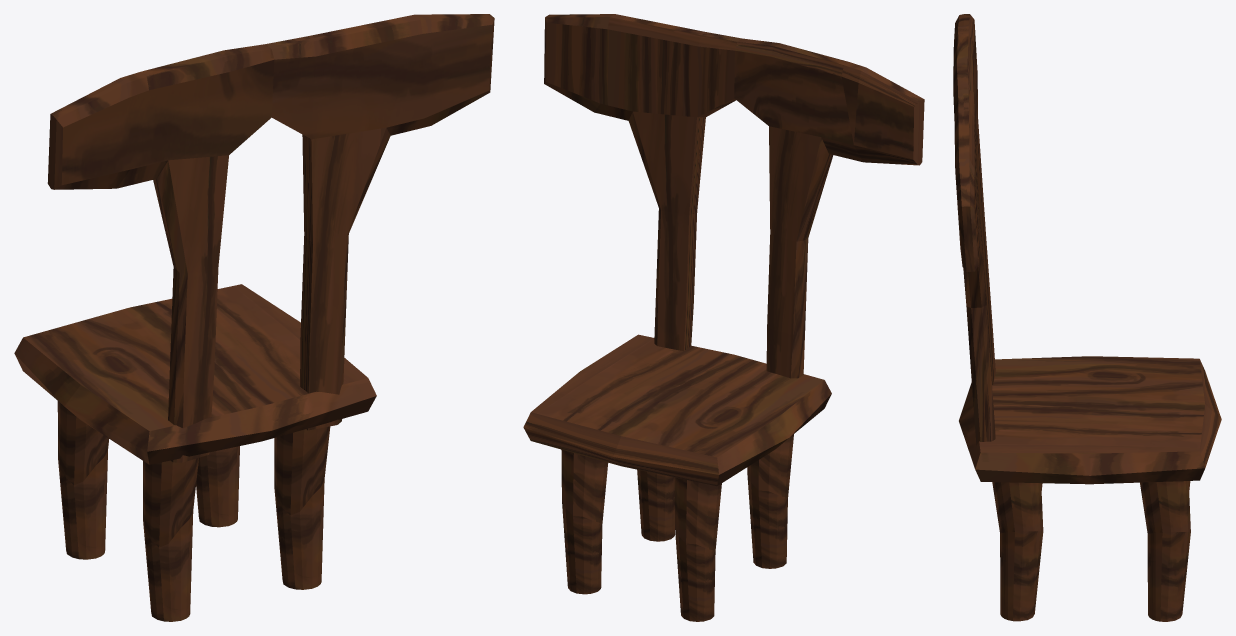
File: wood chair.fbx
3 views of the same model, side by side, from view 1: azimuth 30°, elevation 25°; view 2: azimuth 150°, elevation 25°; view 3: azimuth 270°, elevation 25° (orthographic). The views are drawn at different scales.
Visible parts, largest first — view 1: Cube.002, Seat, Feet.002, Feet.003, Feet.001, Feet; view 2: Cube.002, Seat, Feet.001, Feet, Feet.002, Feet.003; view 3: Seat, Cube.002, Feet, Feet.003.
Part boxes in pixels (x1,y1,x2,y2): Cube.002: (47, 14, 494, 462); Seat: (14, 284, 376, 464); Feet.002: (143, 458, 198, 621); Feet.003: (274, 426, 330, 589); Feet.001: (57, 401, 108, 559); Feet: (196, 446, 239, 527); Cube.002: (544, 14, 924, 378); Seat: (523, 334, 831, 486); Feet.001: (674, 477, 721, 621); Feet: (561, 449, 608, 594); Feet.002: (747, 434, 793, 568); Feet.003: (637, 469, 674, 541); Seat: (959, 356, 1221, 484); Cube.002: (953, 14, 995, 445); Feet: (1140, 481, 1190, 621); Feet.003: (992, 482, 1043, 621).
Size of the model in its own units: 477 by 600 by 291.
